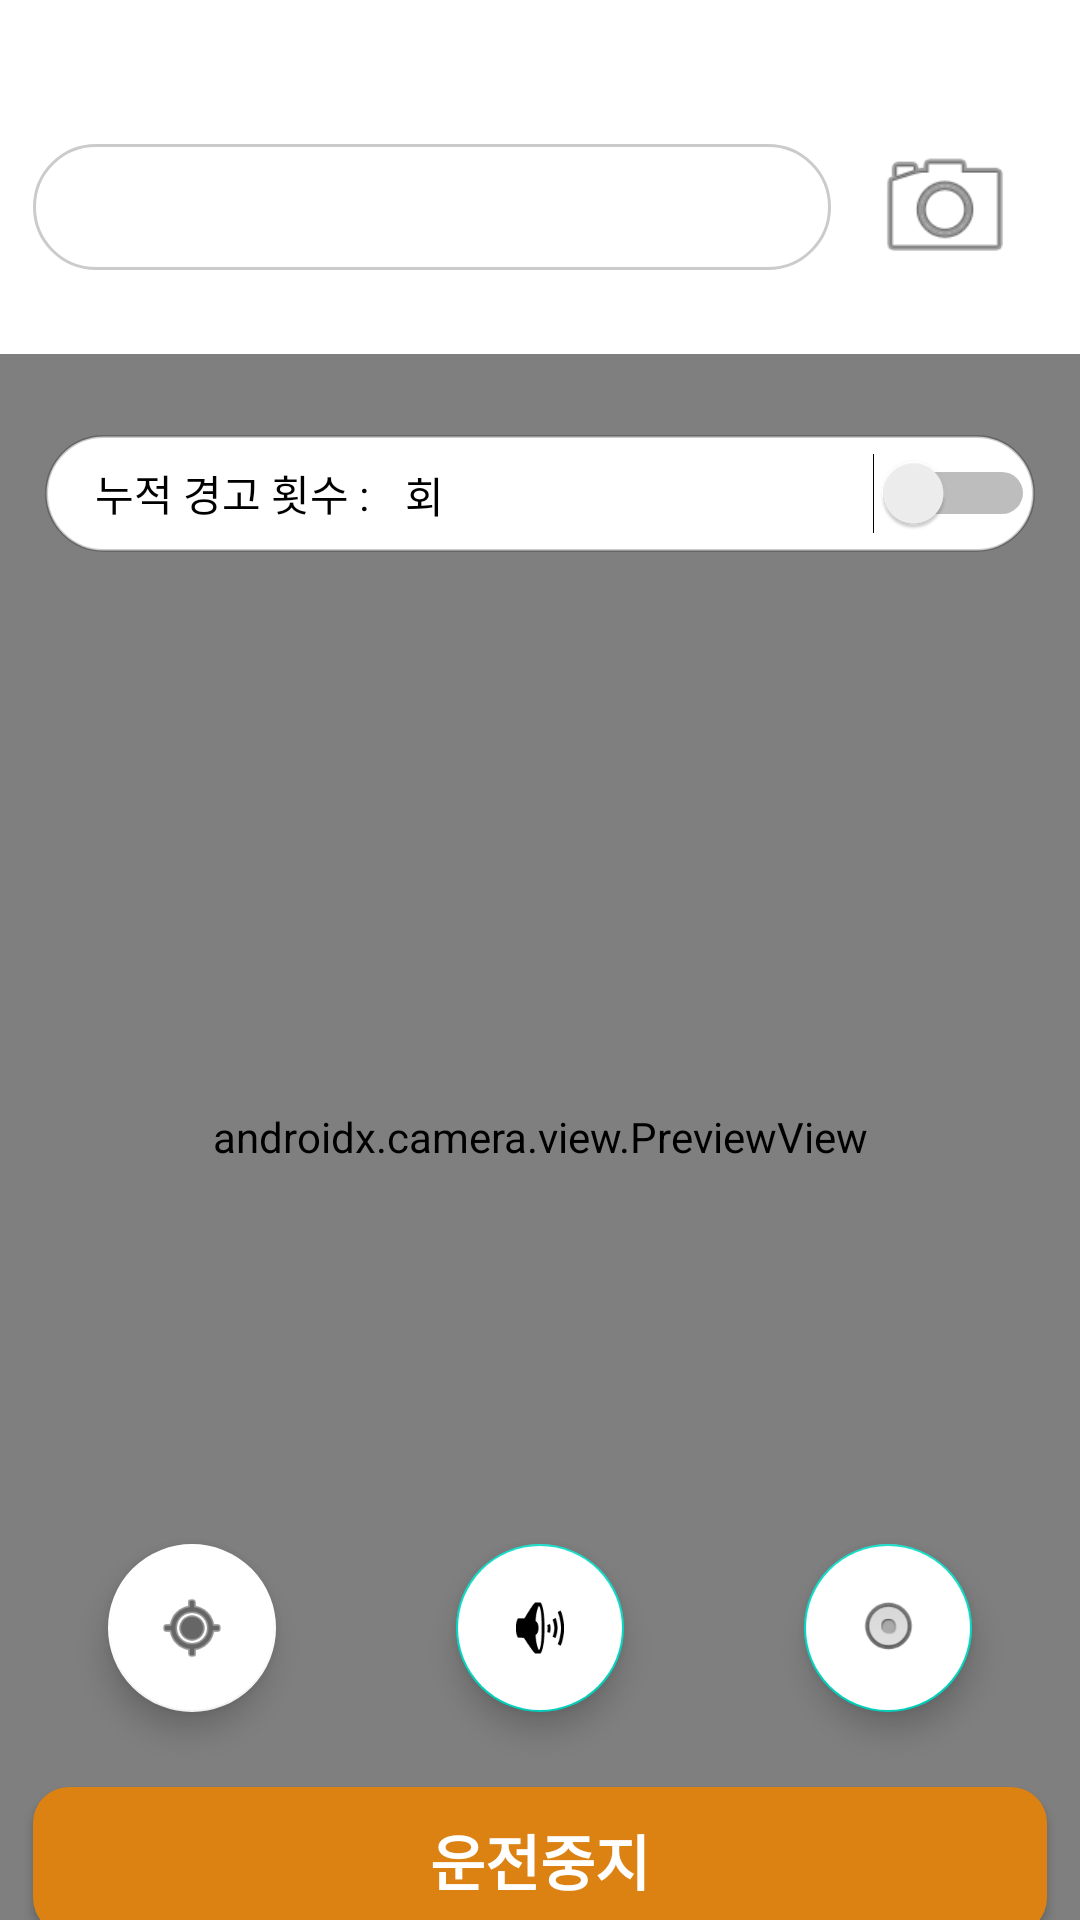

Screen size 1080px×1920px. Icon name, then its box in pixels as (x1, y1, x2, y2):
lock silent mode off: (456, 1544, 624, 1712)
mylocation: (108, 1544, 276, 1712)
radio: (804, 1544, 972, 1712)
